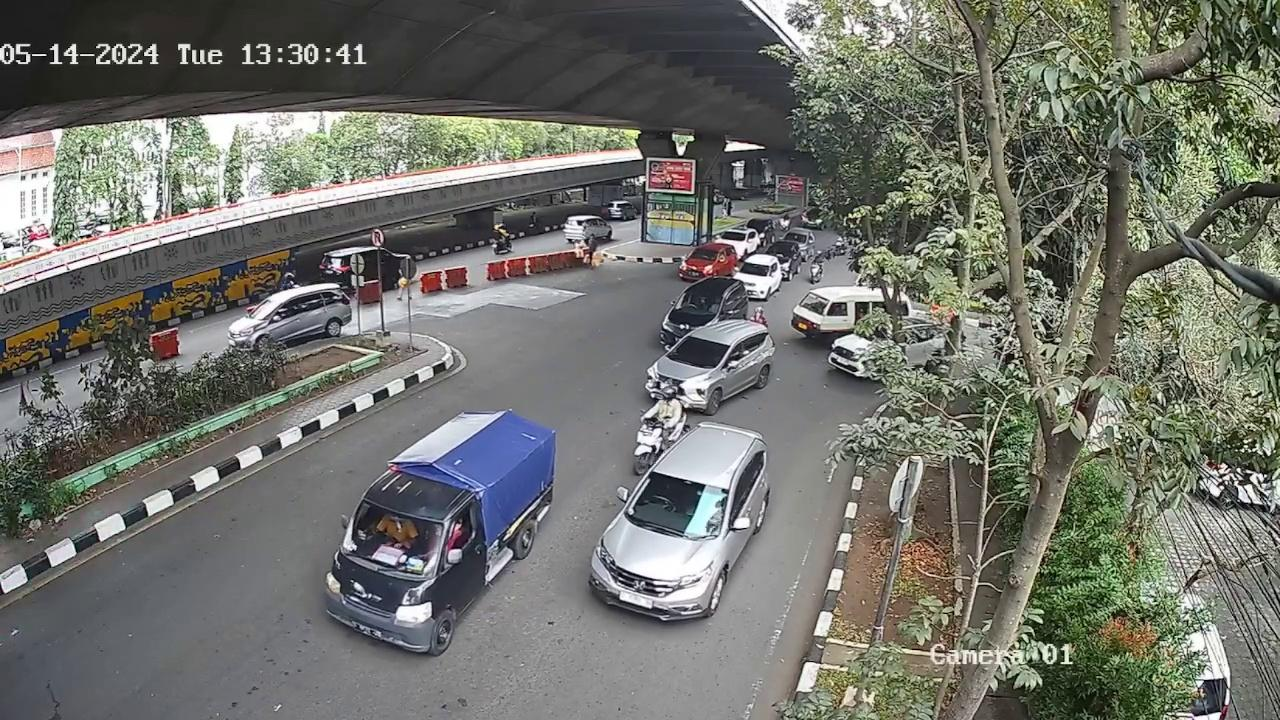tidak-pakai: (379, 511, 420, 555)
windshield: (344, 501, 445, 578), (622, 476, 736, 543), (664, 330, 731, 369), (675, 286, 725, 316)
